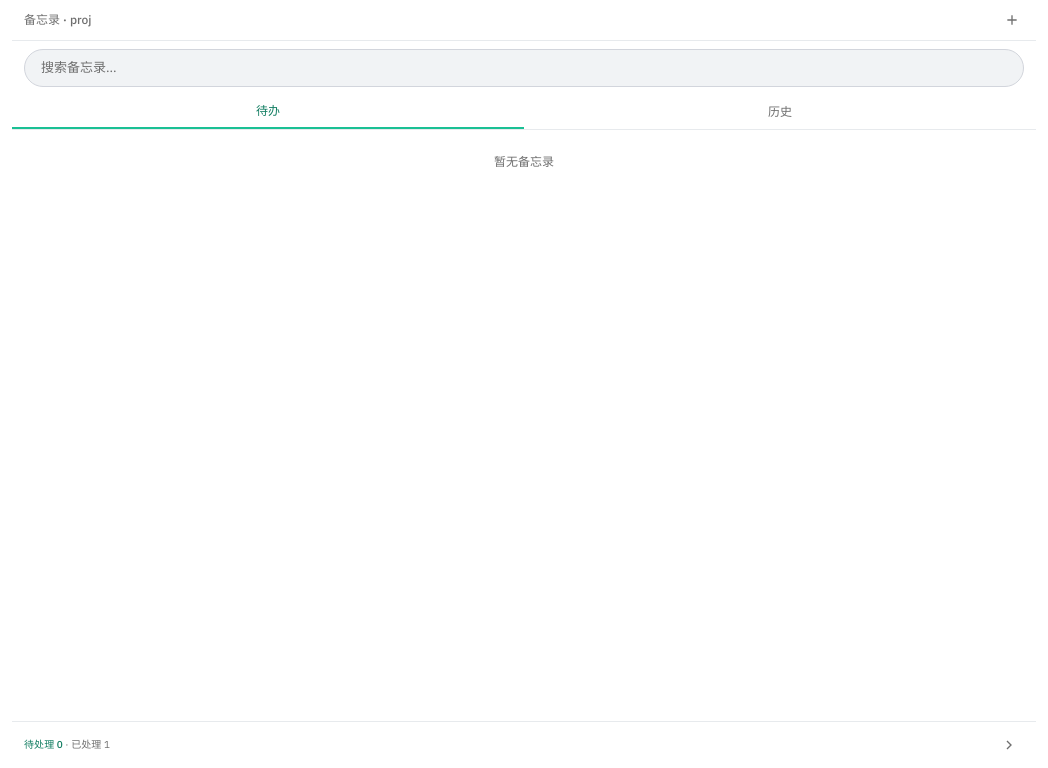
Test: MemoPanel · 历史分组与折叠 › 跨年数据产生「年」层级分组头
Click the button "历史" at (780, 112), box x1=524 y1=94 x2=1036 y2=128
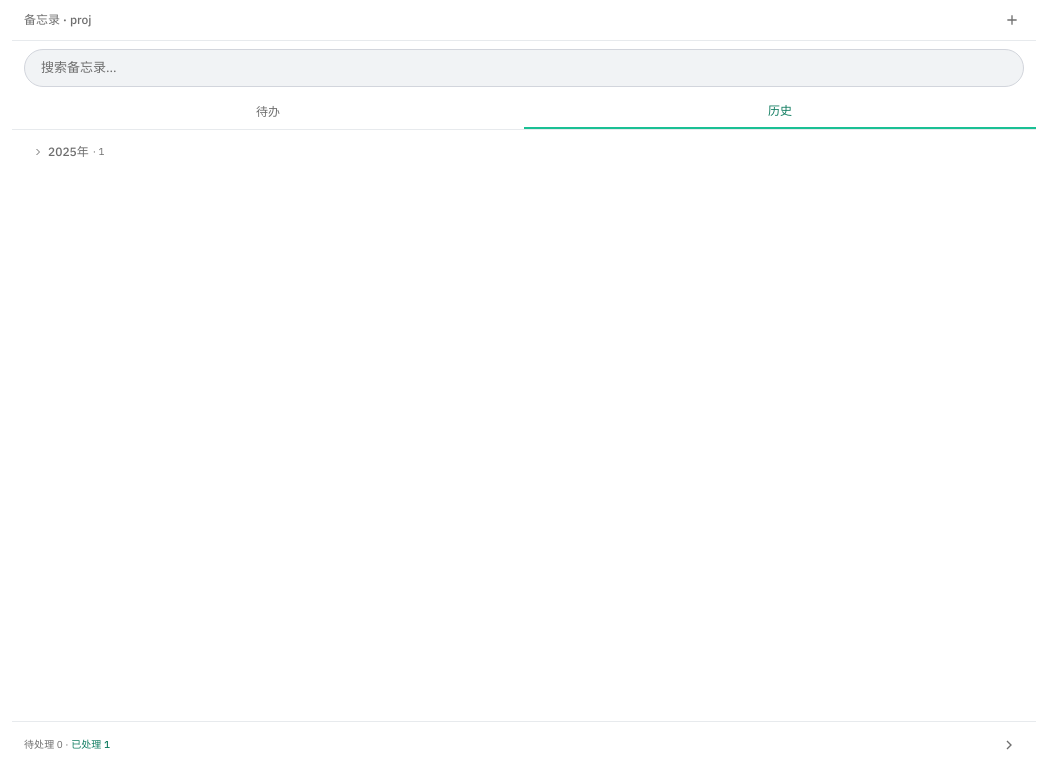
Check: the button named "展开 " is shown, box x1=28 y1=138 x2=1020 y2=166
